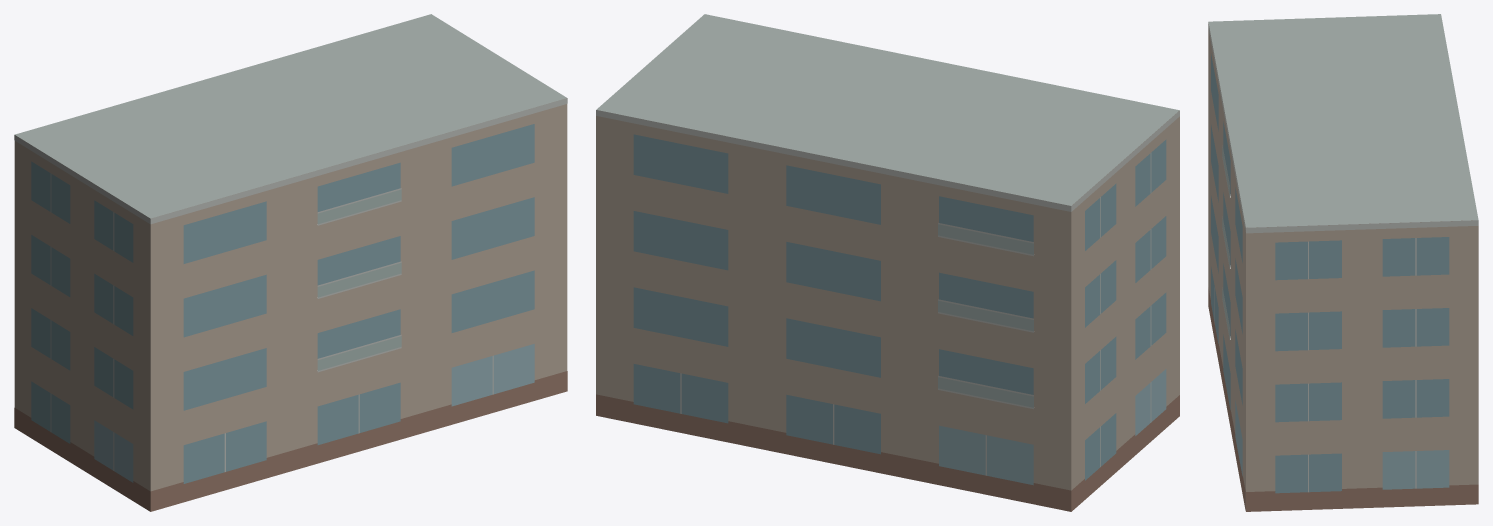
File: survey-upis-32907757.glb
The picture shows the model from 3 angles, left to right: view 1: azimuth 30°, elevation 25°; view 2: azimuth 150°, elevation 25°; view 3: azimuth 270°, elevation 25°; orthographic projection. The views are drawn at different scales.
Visible parts, largest first — view 1: survey-upis-32907757.tmp; view 2: survey-upis-32907757.tmp; view 3: survey-upis-32907757.tmp.
Boxes of the visible parts, left/top/right/bottom form: survey-upis-32907757.tmp: left=14, top=14, right=567, bottom=511; survey-upis-32907757.tmp: left=596, top=14, right=1179, bottom=511; survey-upis-32907757.tmp: left=1208, top=14, right=1478, bottom=511.
Bounding box in the file's own units: 20.02 × 12.4 × 10.7.
